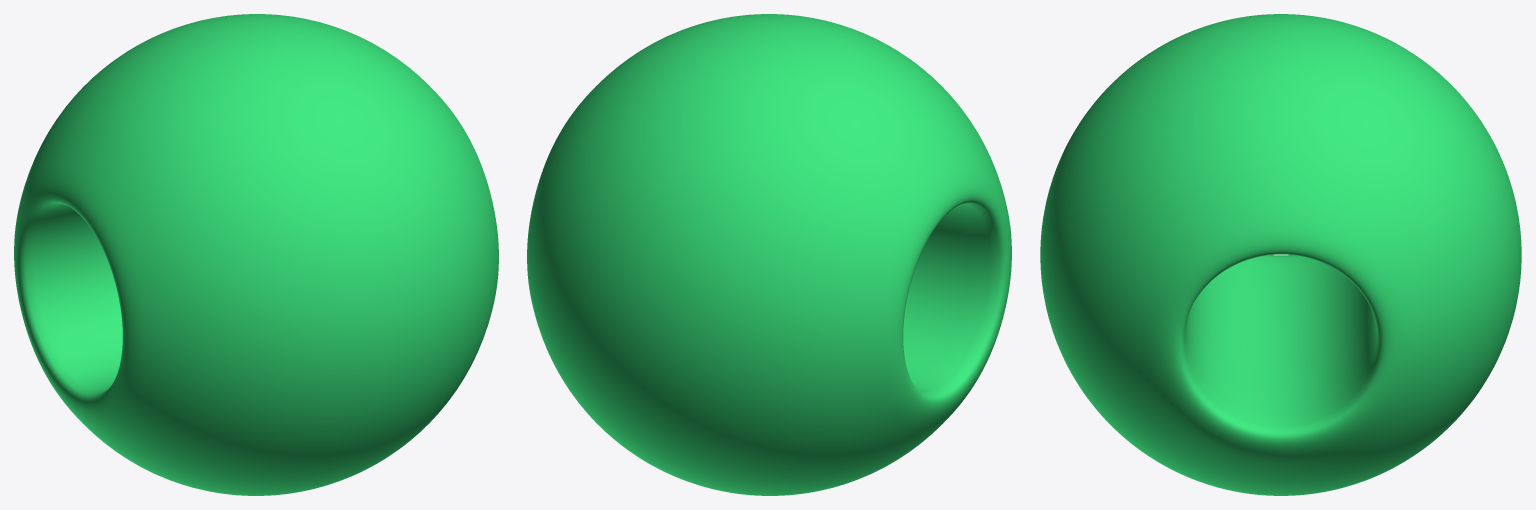
The picture shows the model from 3 angles, left to right: view 1: azimuth 30°, elevation 25°; view 2: azimuth 150°, elevation 25°; view 3: azimuth 270°, elevation 25°; orthographic projection.
Parts seen in each view (by area): view 1: tyrkys; view 2: tyrkys; view 3: tyrkys.
Part boxes in pixels (<box>): tyrkys: <box>14,14,498,495</box>; tyrkys: <box>527,14,1011,495</box>; tyrkys: <box>1040,14,1521,495</box>.
Size of the model in its own units: 1.75 by 1.97 by 1.97.
